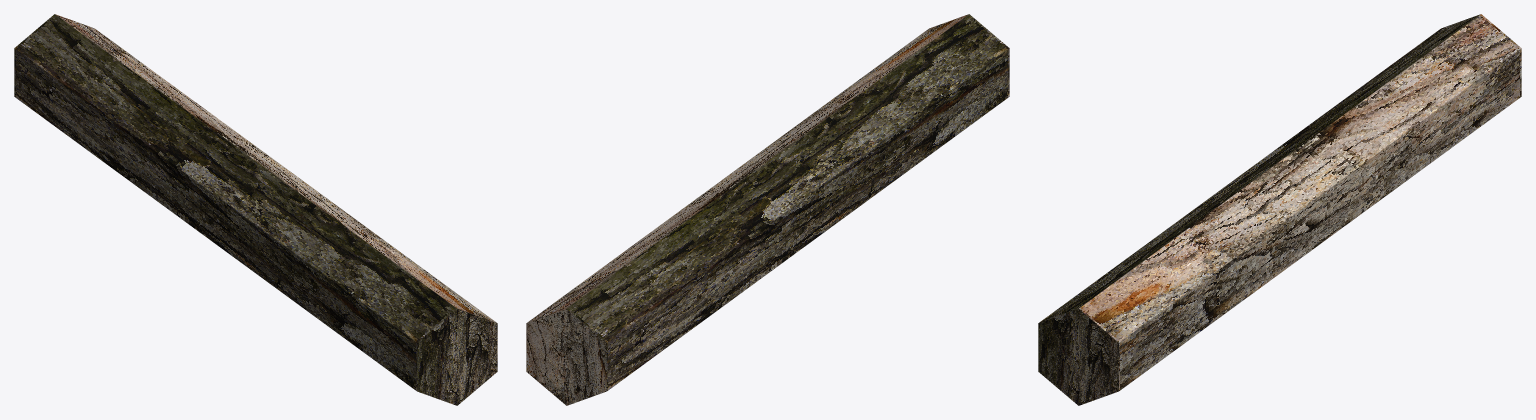
Rendered from stick.glb.
3 views of the same model, side by side, from view 1: azimuth 30°, elevation 25°; view 2: azimuth 150°, elevation 25°; view 3: azimuth 330°, elevation 25° (orthographic).
Parts seen in each view (by area): view 1: Cylinder; view 2: Cylinder; view 3: Cylinder.
Part boxes in pixels (x1,y1,x2,y2): Cylinder: (14,14,497,405); Cylinder: (526,14,1009,405); Cylinder: (1038,14,1521,405).
Bounding box in the file's own units: 0.433 × 0.5 × 3.75.
Materials: 1 (1 with a texture image).
